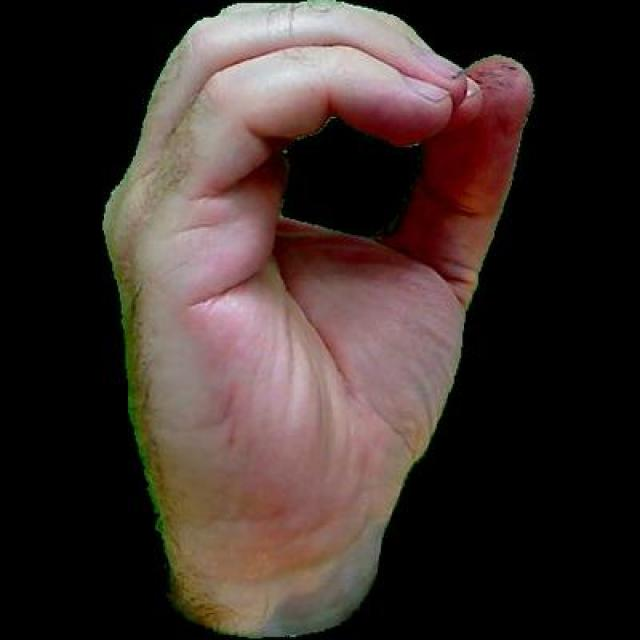o: (98, 0, 536, 637)
